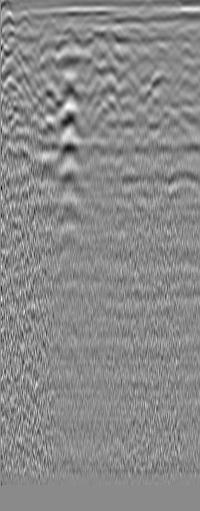오수: (13, 8, 33, 28)
우수: (175, 44, 195, 64)
